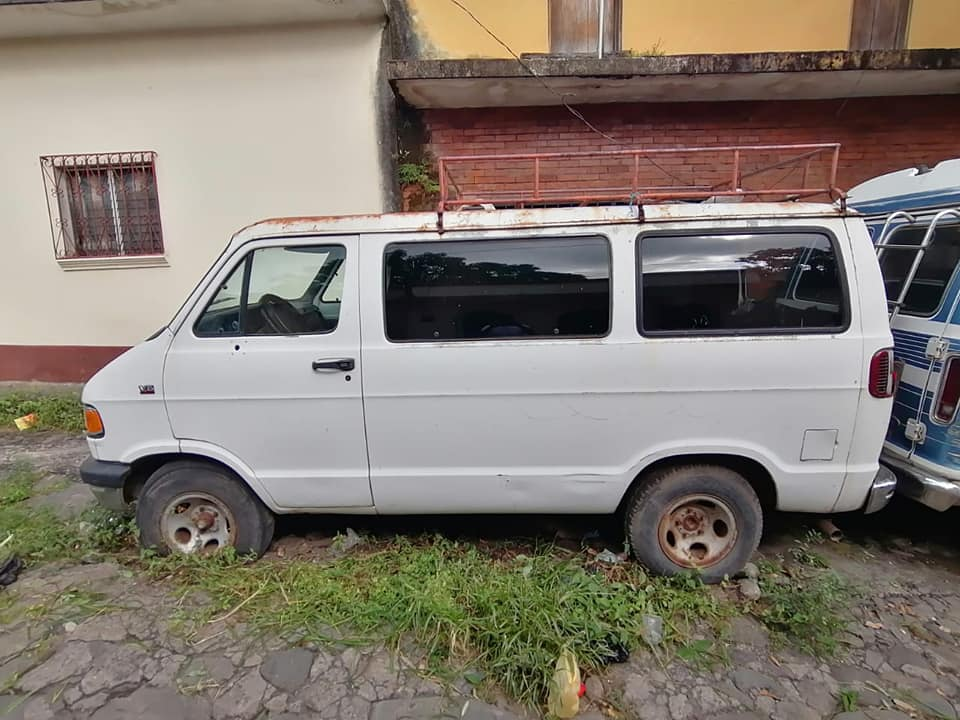bus: (66, 195, 894, 577)
